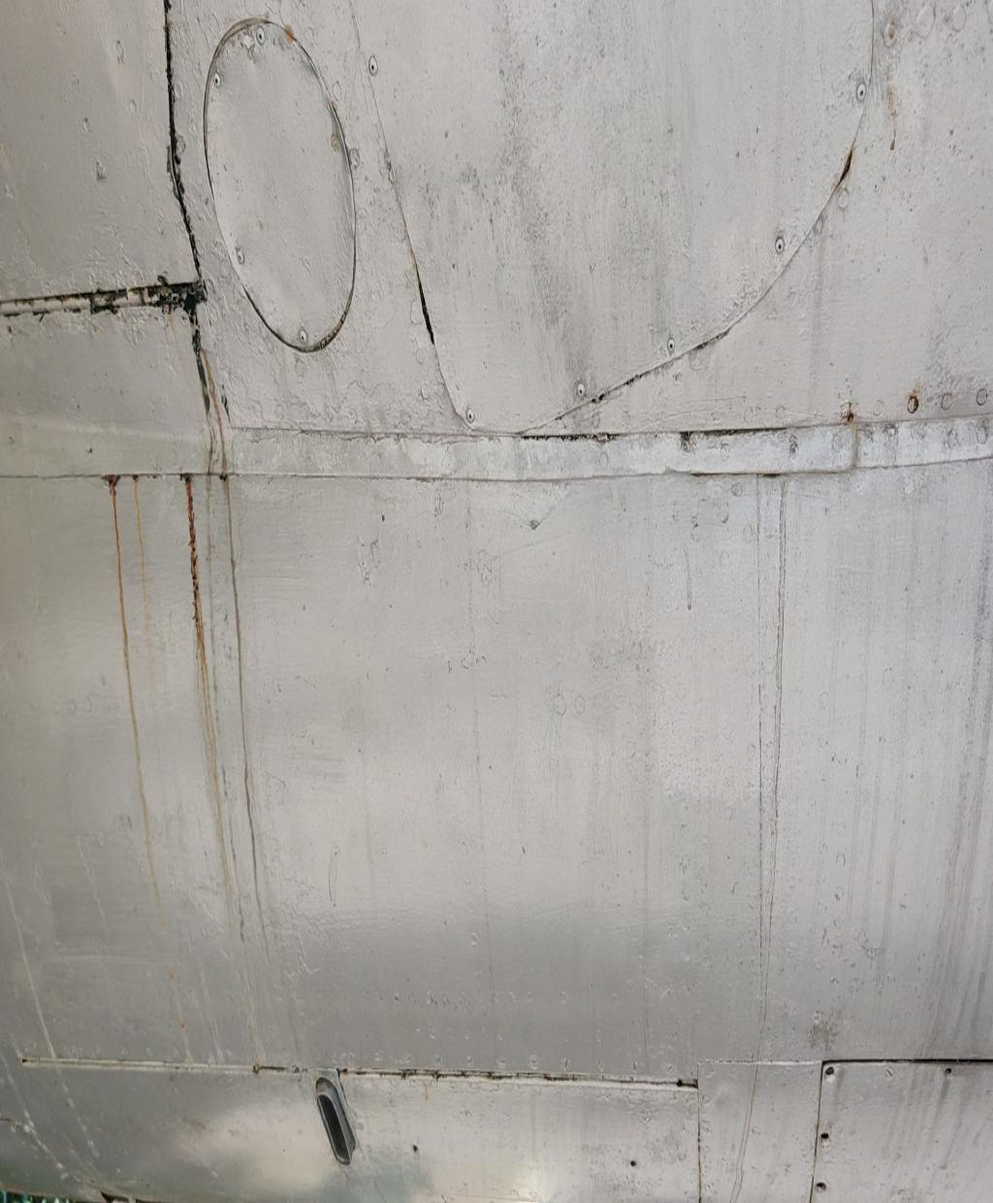corrosion: (162, 271, 211, 424)
